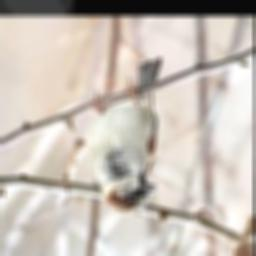Sparrow: (89, 58, 162, 213)
